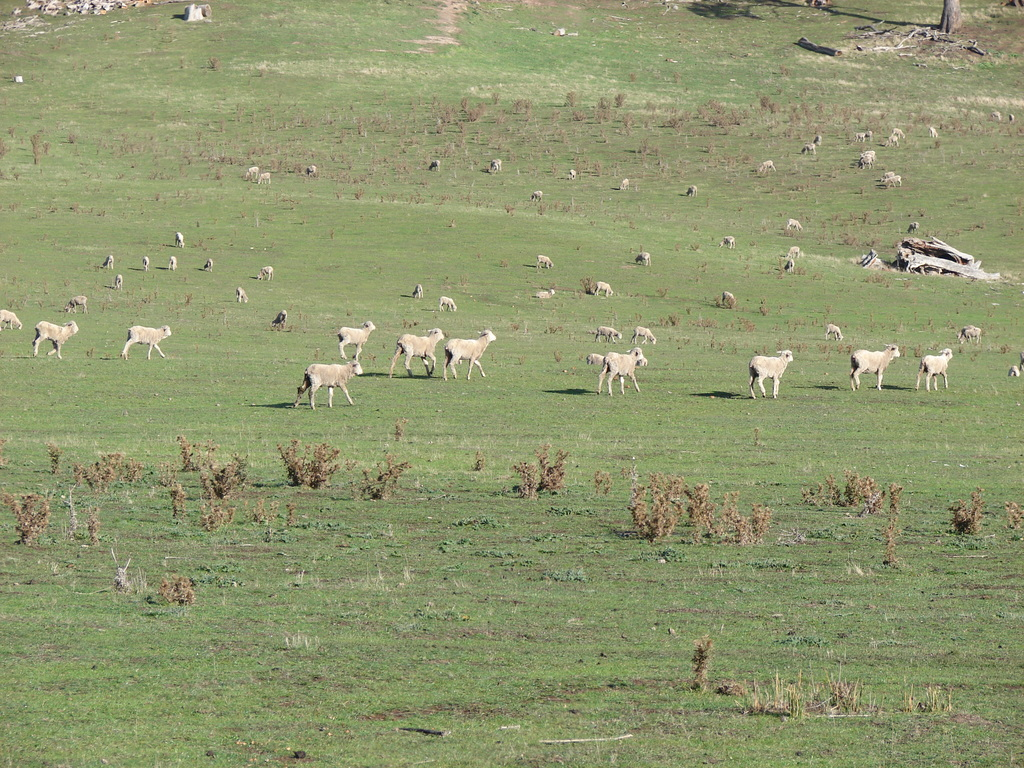sheep: (293, 360, 361, 404), (846, 345, 903, 390), (444, 328, 495, 378), (388, 327, 440, 376), (597, 346, 643, 394), (748, 350, 791, 398), (30, 320, 79, 360), (916, 350, 954, 392), (119, 327, 170, 357), (630, 325, 655, 346), (592, 327, 622, 343), (961, 325, 982, 343), (754, 159, 777, 174), (65, 298, 89, 312), (256, 263, 274, 279), (632, 250, 650, 266), (827, 323, 843, 341), (438, 296, 455, 312), (536, 253, 553, 269), (592, 282, 611, 296), (717, 236, 736, 249), (273, 309, 286, 326), (786, 216, 803, 229), (410, 285, 424, 298), (781, 259, 795, 272), (236, 288, 248, 302), (244, 166, 259, 177), (786, 245, 800, 256), (884, 177, 901, 186), (801, 144, 816, 154), (533, 290, 554, 297), (908, 222, 920, 234), (257, 171, 270, 182), (988, 110, 1002, 120), (884, 136, 899, 145), (618, 177, 629, 189), (202, 257, 212, 270), (890, 129, 905, 137), (140, 256, 149, 269), (167, 256, 176, 269), (529, 190, 542, 199), (176, 231, 183, 247), (103, 257, 115, 266), (490, 159, 502, 168), (811, 136, 823, 145), (687, 185, 698, 194), (928, 126, 937, 137), (426, 161, 440, 168), (858, 159, 872, 166), (853, 132, 865, 140), (115, 275, 122, 286), (568, 168, 575, 179), (1006, 113, 1015, 121), (306, 166, 315, 173), (867, 129, 873, 137)
